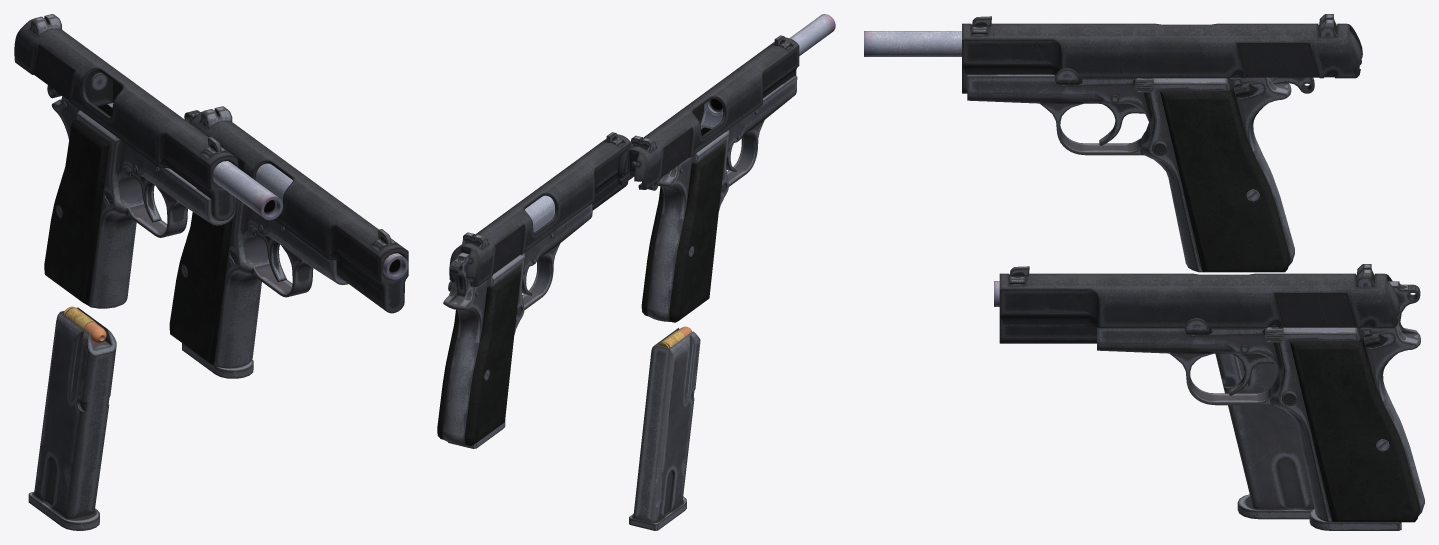
File: pistol_9mm_src.glb
3 renders of one model, left to right at view 1: azimuth 30°, elevation 25°; view 2: azimuth 150°, elevation 25°; view 3: azimuth 270°, elevation 25°, orthographic. The views are drawn at different scales.
Parts seen in each view (by area): view 1: base_2, base, slide_2, mag_2, slide, mag, bullet_2, trigger, trigger_2; view 2: base_2, base, mag_2, slide_2, slide, hammer; view 3: base_2, base, slide, slide_2, mag_2, mag.
Part boxes in pixels (x1,y1,x2,y2): base_2: [44, 96, 283, 308]; base: [169, 163, 408, 368]; slide_2: [14, 14, 238, 220]; mag_2: [28, 307, 116, 530]; slide: [189, 106, 408, 313]; mag: [182, 343, 253, 378]; bullet_2: [63, 306, 106, 343]; trigger: [256, 230, 286, 281]; trigger_2: [131, 171, 161, 222]; base_2: [641, 14, 835, 322]; base: [437, 195, 592, 446]; mag_2: [629, 328, 700, 530]; slide_2: [617, 35, 799, 189]; slide: [449, 132, 630, 286]; hammer: [449, 252, 469, 296]; base_2: [864, 31, 1294, 272]; base: [994, 281, 1424, 522]; slide: [999, 264, 1400, 343]; slide_2: [962, 14, 1362, 93]; mag_2: [1215, 353, 1314, 519]; mag: [1309, 508, 1401, 530].
Bounding box in the file's own units: 17.27 × 33.86 × 34.75.
Materials: 1 (1 with a texture image).
